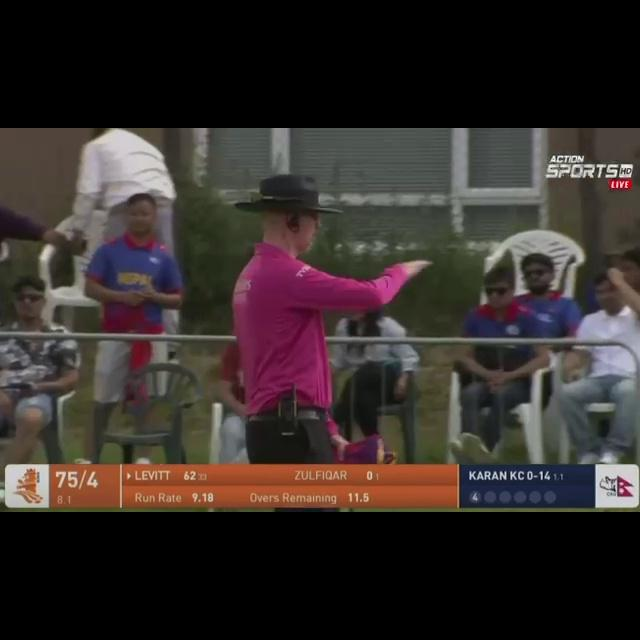umpire: (193, 154, 447, 429)
